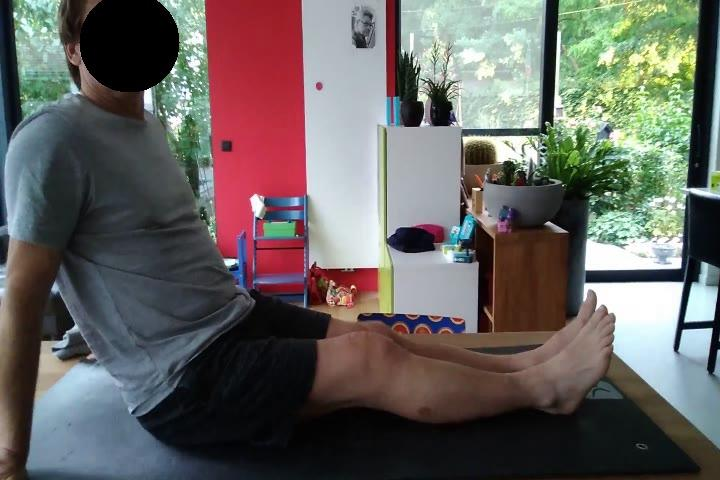lower_body: (142, 288, 619, 450)
